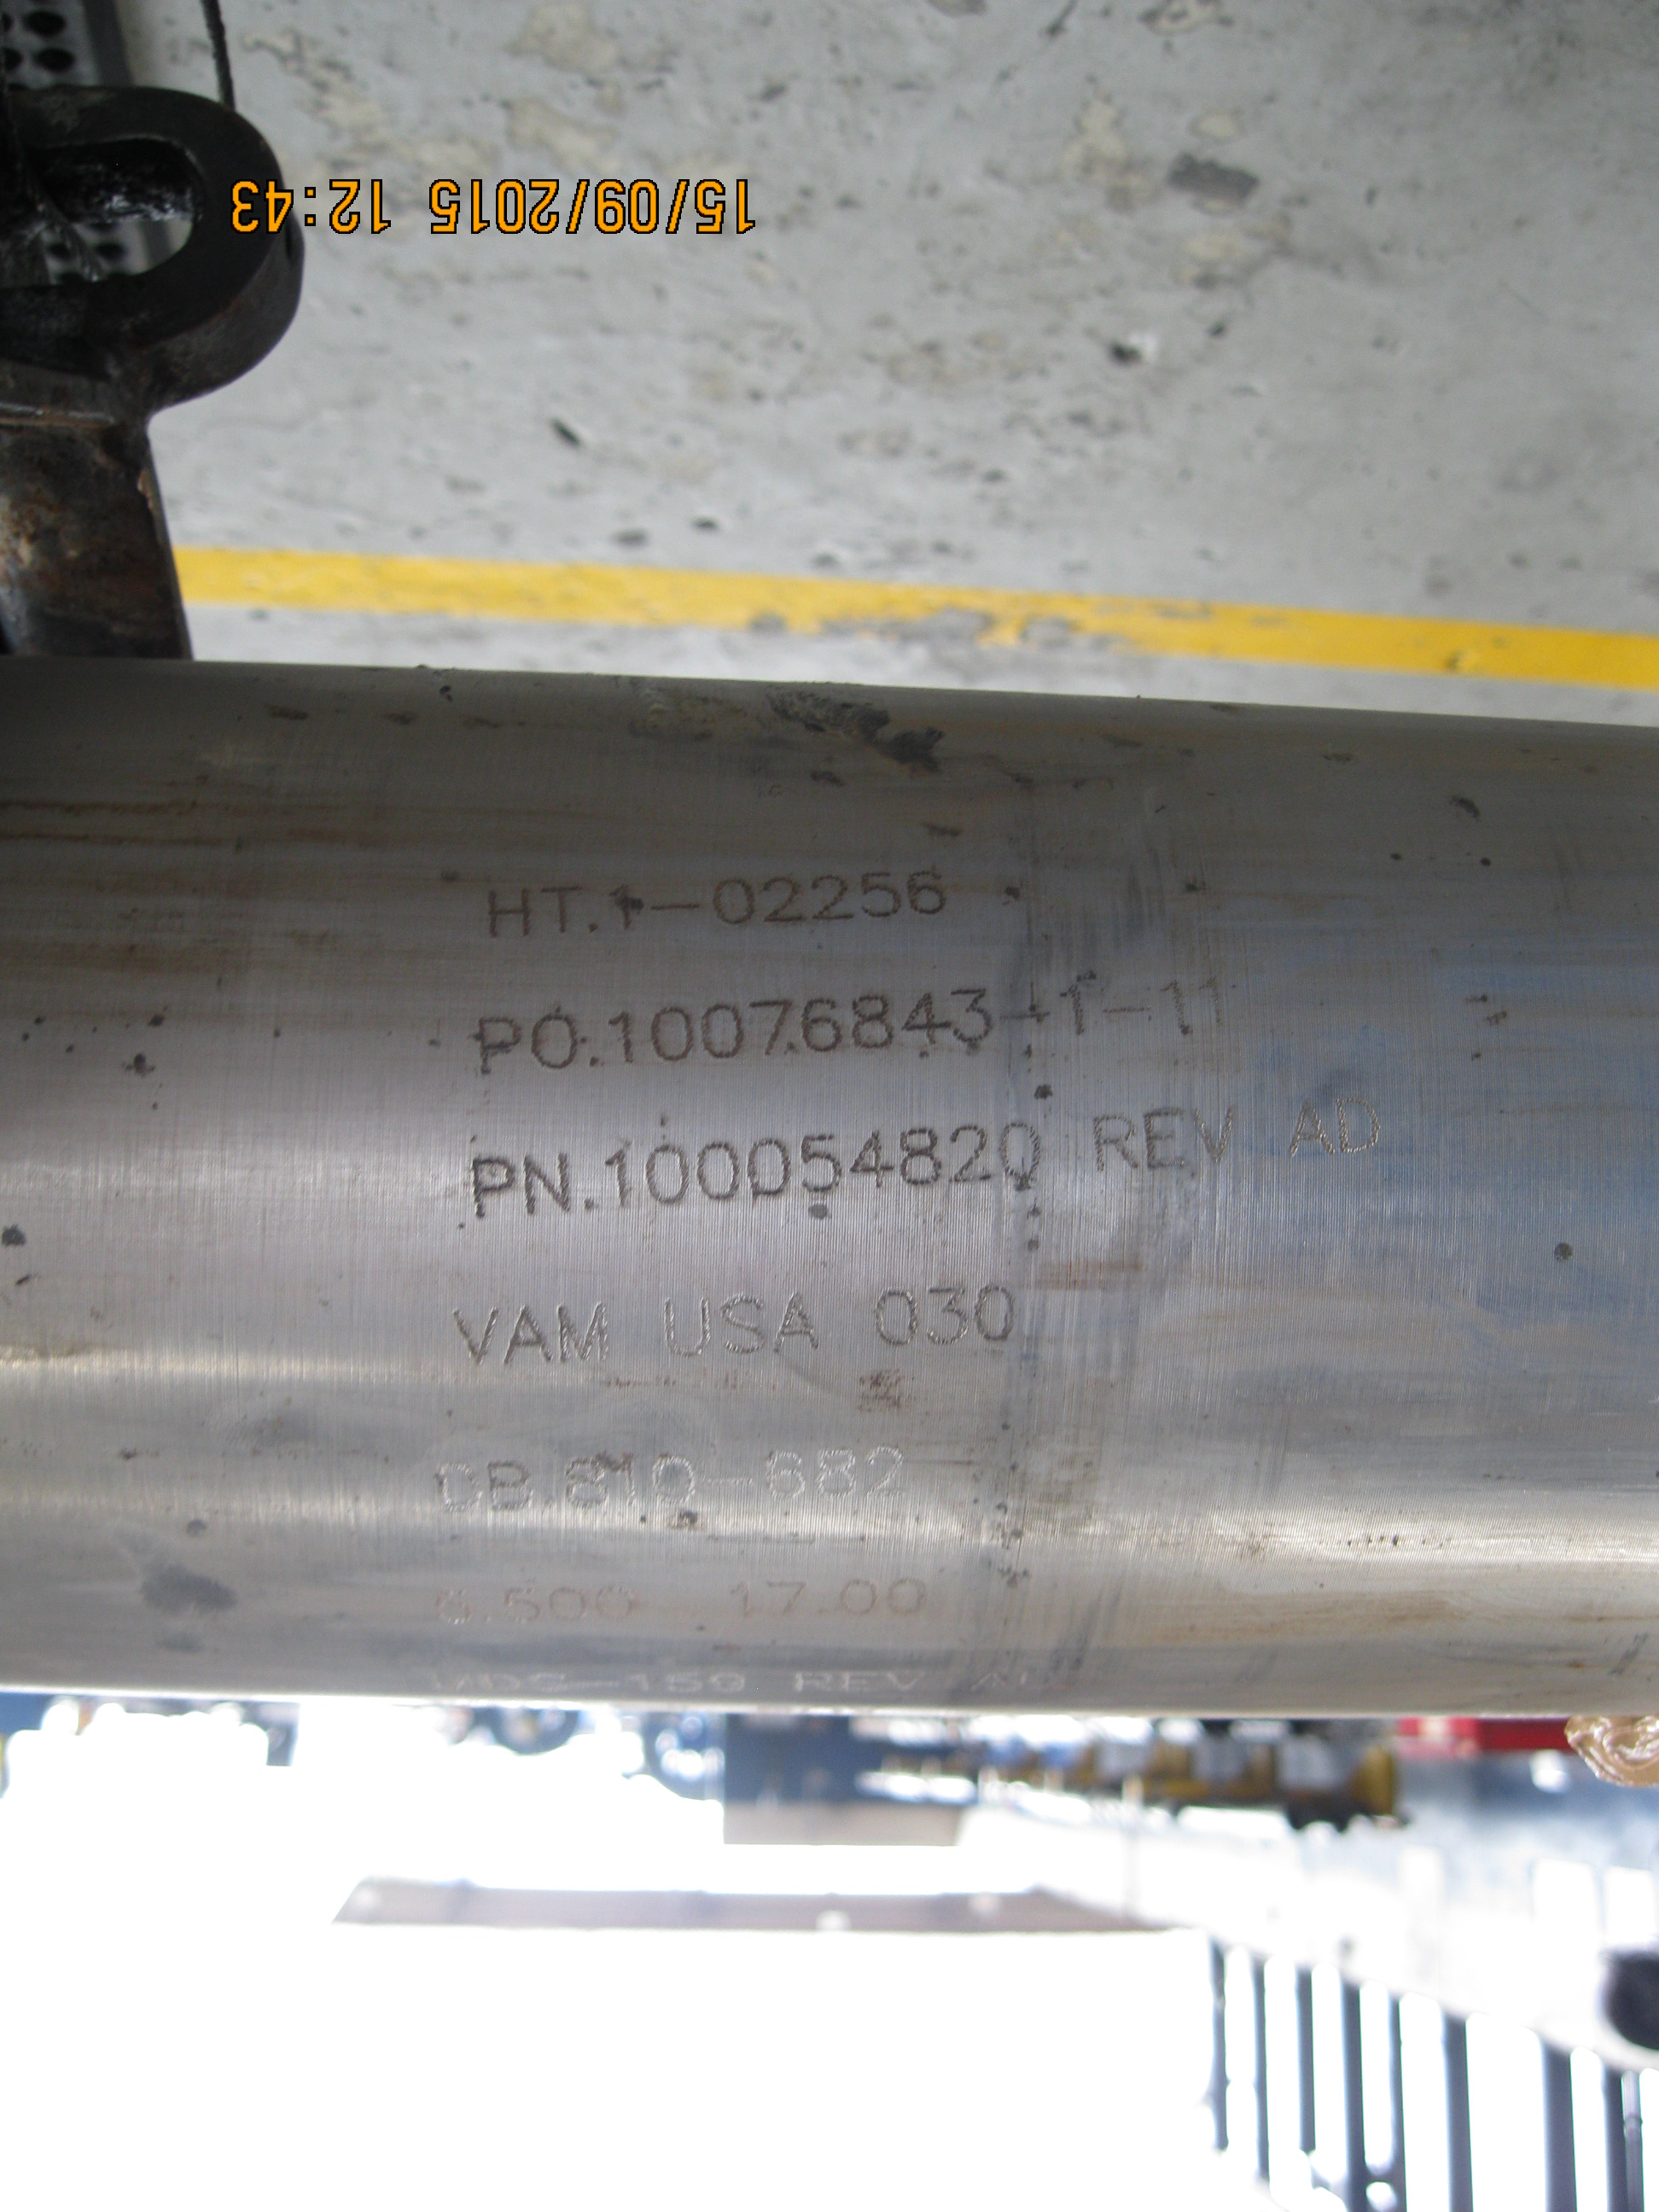character: (1185, 1092, 1246, 1169), (525, 1008, 582, 1083), (521, 1148, 577, 1224), (551, 1303, 617, 1367), (1140, 1103, 1194, 1181), (469, 1012, 528, 1083), (462, 1150, 518, 1224), (695, 993, 748, 1069), (845, 989, 899, 1062), (477, 878, 537, 944), (645, 1001, 699, 1073), (793, 988, 843, 1062), (1331, 1089, 1385, 1158), (744, 991, 796, 1062), (969, 1275, 1021, 1346), (500, 1303, 552, 1372), (951, 979, 999, 1055), (659, 1296, 713, 1362), (847, 1123, 896, 1197), (1089, 1104, 1138, 1177), (901, 986, 953, 1054), (995, 1118, 1047, 1186), (901, 864, 951, 934), (448, 1303, 502, 1367), (746, 1136, 793, 1207), (795, 1132, 843, 1200), (894, 1123, 943, 1191), (716, 1292, 765, 1360), (943, 1122, 995, 1184), (645, 1139, 692, 1207), (1195, 974, 1241, 1042), (809, 867, 857, 930), (873, 1285, 915, 1359), (925, 1280, 967, 1353), (772, 1294, 824, 1352), (697, 1139, 741, 1207), (713, 871, 760, 934), (760, 871, 807, 934), (538, 880, 584, 942), (857, 866, 901, 930), (1284, 1096, 1331, 1155), (603, 1143, 641, 1212), (1056, 979, 1093, 1047), (1164, 979, 1199, 1049), (605, 1005, 640, 1071), (601, 878, 641, 935), (648, 895, 704, 920), (1093, 1005, 1159, 1022), (1002, 1003, 1053, 1024)
